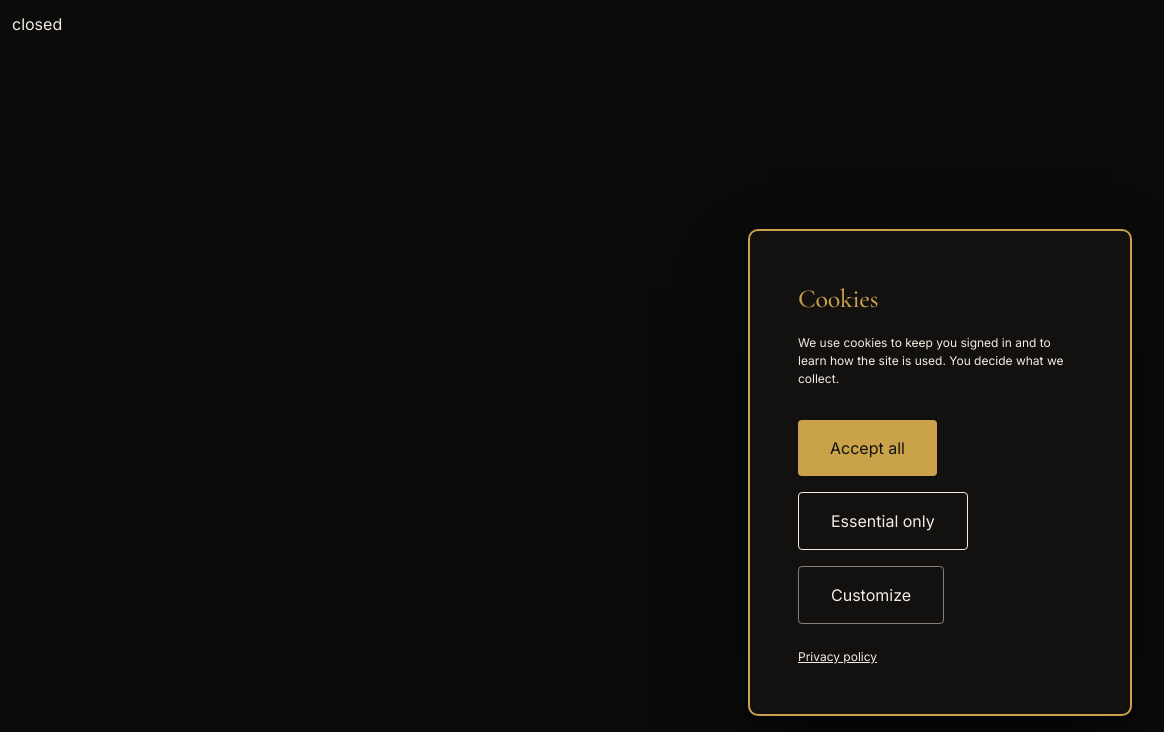
CookieBanner — render gate (T2 / AC3, AC4) › clicking "Customize" opens the customize panel without writing a cookie
The image size is (1164, 732).
Expected: the text with test id "panel-state" reads "closed", 12,14 -> 62,34
Step 1. Click the button "Customize" → (871, 595), box 798,566 -> 944,624
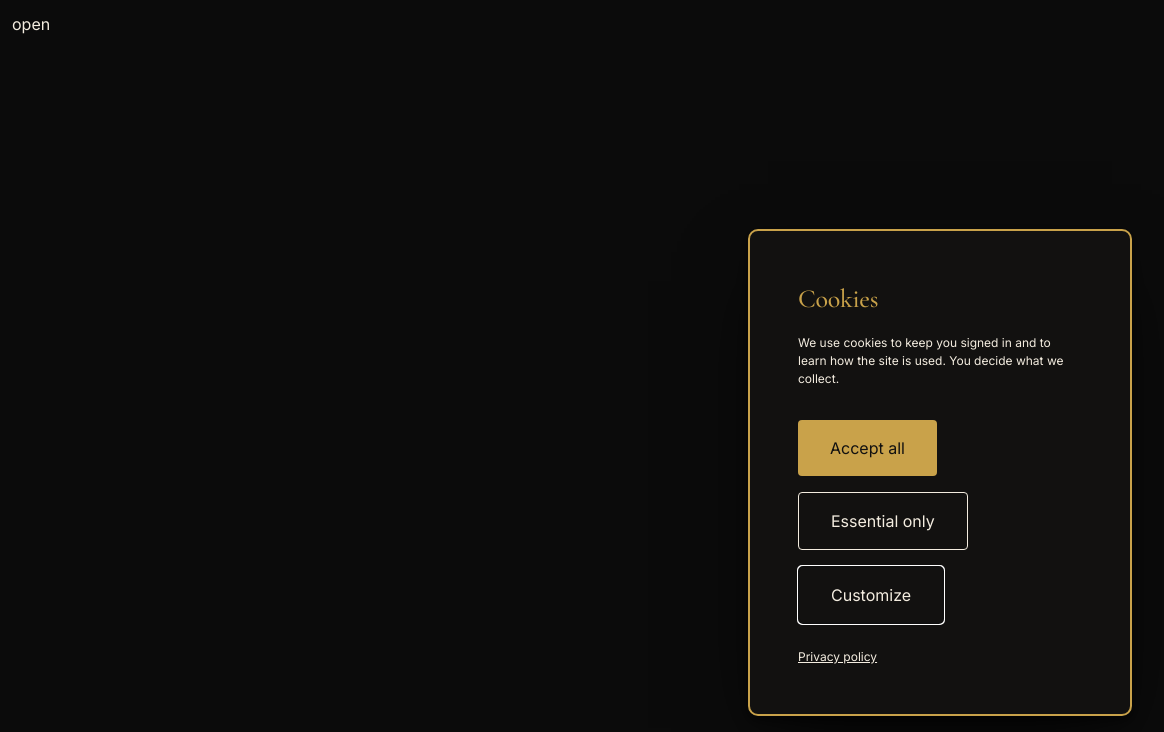
Now the text with test id "panel-state" reads "open", box 12,14 -> 50,34
